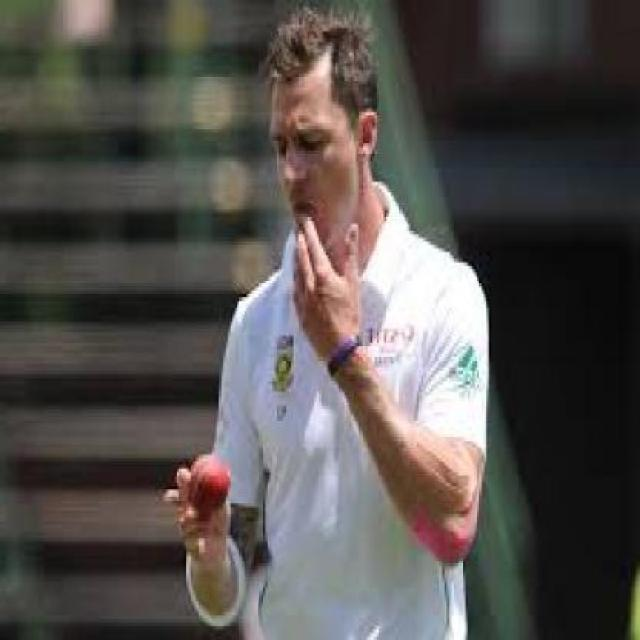ball: (142, 419, 266, 526)
